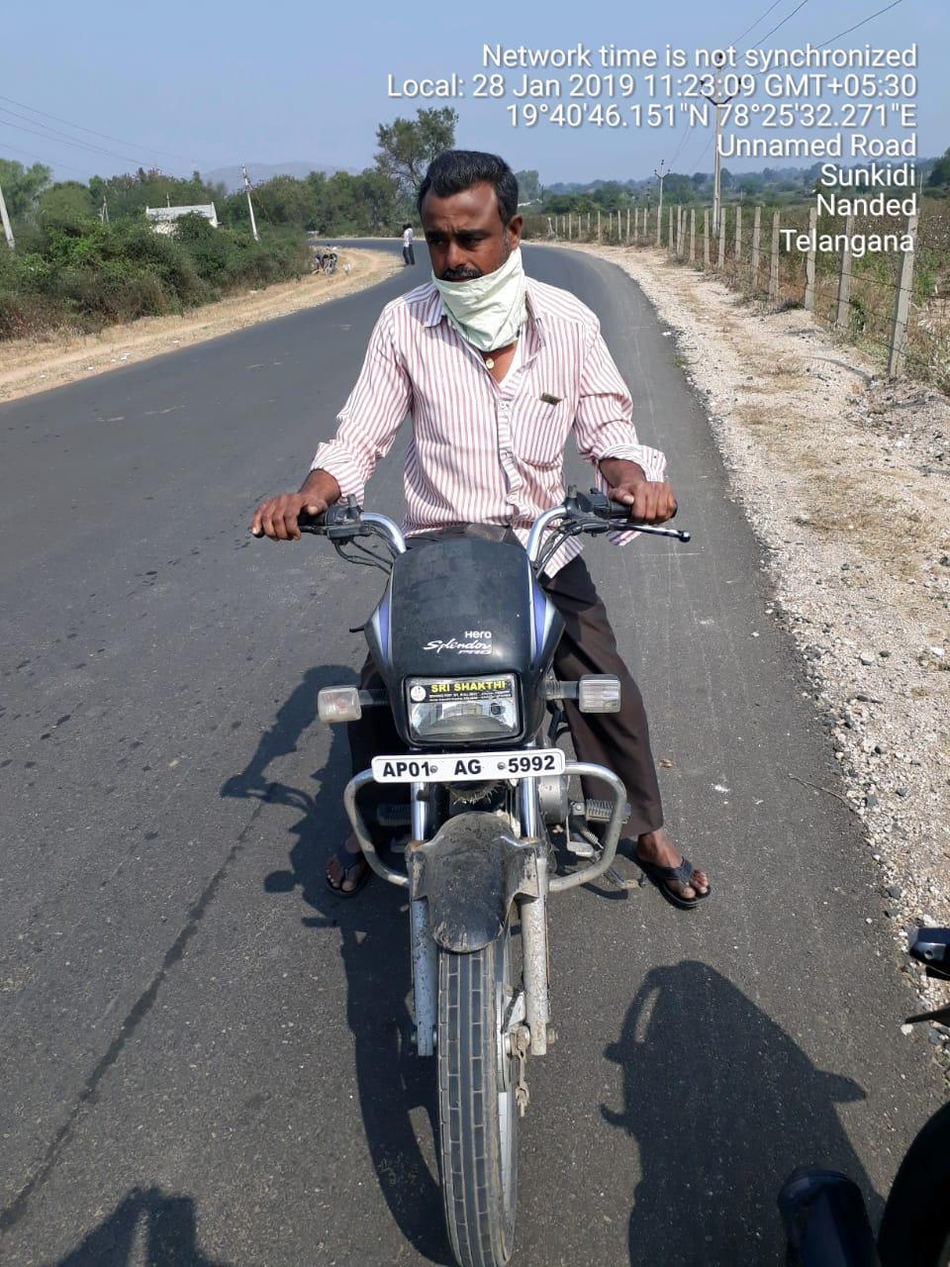plate: (360, 745, 577, 786)
